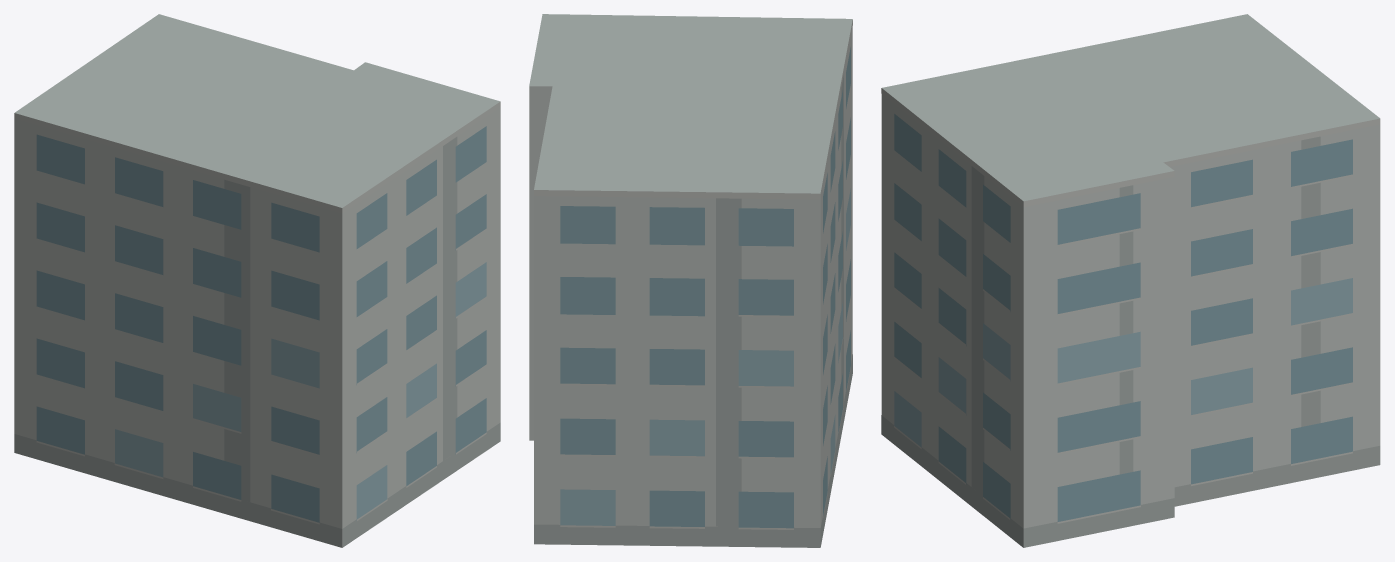
The model's file is survey-upis-32946463.glb.
3 views of the same model, side by side, from view 1: azimuth 30°, elevation 25°; view 2: azimuth 150°, elevation 25°; view 3: azimuth 270°, elevation 25° (orthographic). The views are drawn at different scales.
Parts seen in each view (by area): view 1: survey-upis-32946463.tmp; view 2: survey-upis-32946463.tmp; view 3: survey-upis-32946463.tmp.
Boxes of the visible parts, x1=… form: survey-upis-32946463.tmp: x1=14, y1=14, x2=500, y2=547; survey-upis-32946463.tmp: x1=529, y1=14, x2=852, y2=547; survey-upis-32946463.tmp: x1=881, y1=14, x2=1380, y2=547.
Size of the model in its own units: 16.53 by 14.25 by 18.6.
